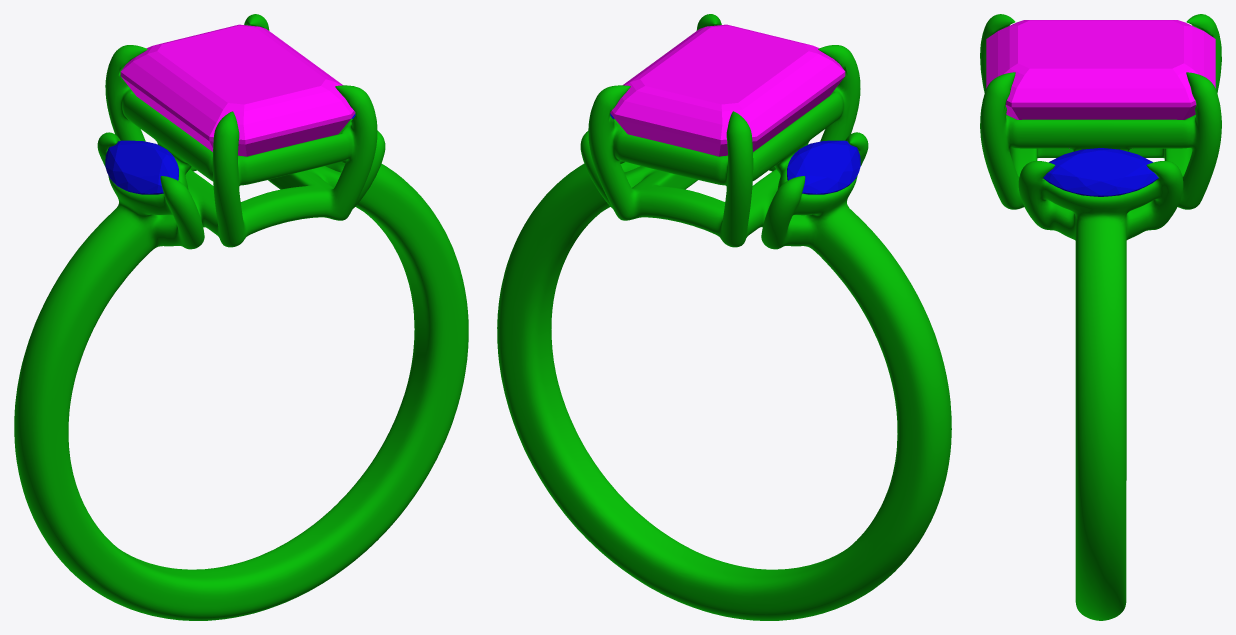
Rendered from BE1D384_EM_200ct_RENDER.glb.
3 renders of one model, left to right at view 1: azimuth 30°, elevation 25°; view 2: azimuth 150°, elevation 25°; view 3: azimuth 270°, elevation 25°, orthographic.
Visible parts, largest first — view 1: Metal 01, CS_Diamond_Emerald, Diamond_Marquise_side.001; view 2: Metal 01, CS_Diamond_Emerald, Diamond_Marquise_side.001; view 3: Metal 01, CS_Diamond_Emerald, Diamond_Marquise_side.
Part boxes in pixels (x1,y1,x2,y2): Metal 01: [14, 14, 468, 620]; CS_Diamond_Emerald: [120, 24, 355, 156]; Diamond_Marquise_side.001: [105, 140, 178, 194]; Metal 01: [497, 14, 951, 620]; CS_Diamond_Emerald: [610, 24, 845, 156]; Diamond_Marquise_side.001: [787, 140, 860, 194]; Metal 01: [980, 14, 1221, 620]; CS_Diamond_Emerald: [986, 20, 1215, 148]; Diamond_Marquise_side: [1043, 148, 1158, 196].
Size of the model in its own units: 20.41 by 23.93 by 9.5.
